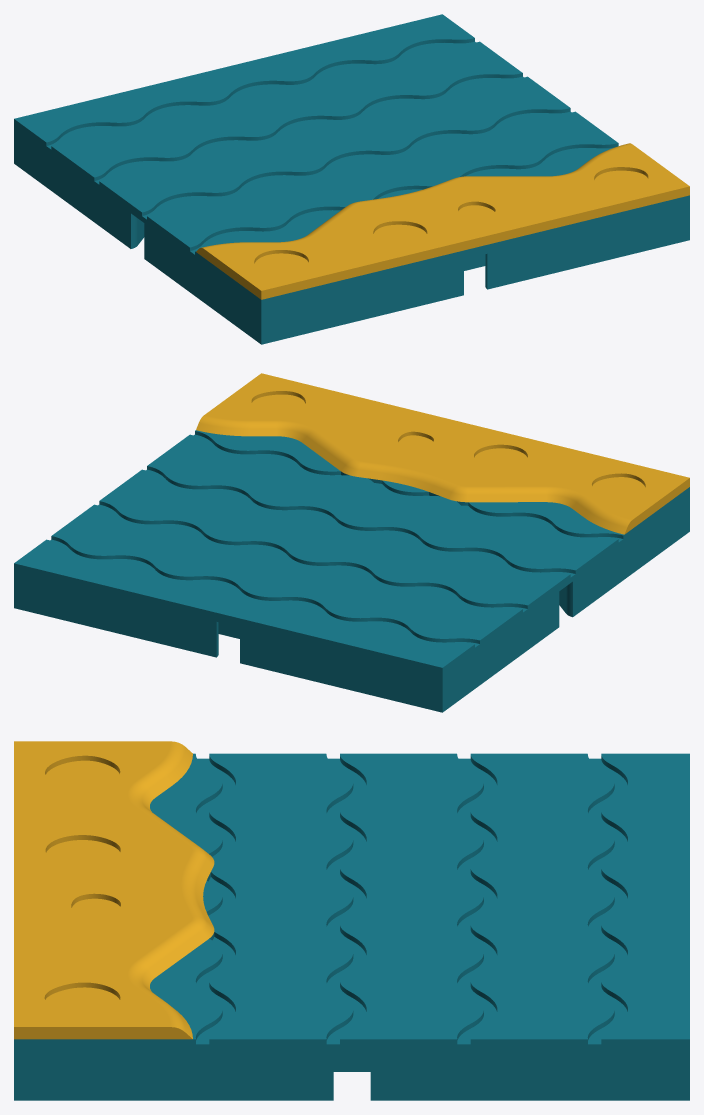
The model's file is 5x5 Sand On Water.obj.
3 renders of one model, top to bottom at view 1: azimuth 30°, elevation 25°; view 2: azimuth 150°, elevation 25°; view 3: azimuth 270°, elevation 25°, orthographic. The views are drawn at different scales.
Parts seen in each view (by area): view 1: Körper1:1, Körper1; view 2: Körper1:1, Körper1; view 3: Körper1:1, Körper1.
Boxes of the visible parts, bbox=[...] form: Körper1:1: bbox=[14, 14, 689, 344]; Körper1: bbox=[196, 143, 689, 299]; Körper1:1: bbox=[14, 430, 689, 712]; Körper1: bbox=[196, 373, 689, 534]; Körper1:1: bbox=[14, 753, 689, 1100]; Körper1: bbox=[14, 741, 214, 1039].
Bounding box in the file's own units: 50 × 6 × 50.
